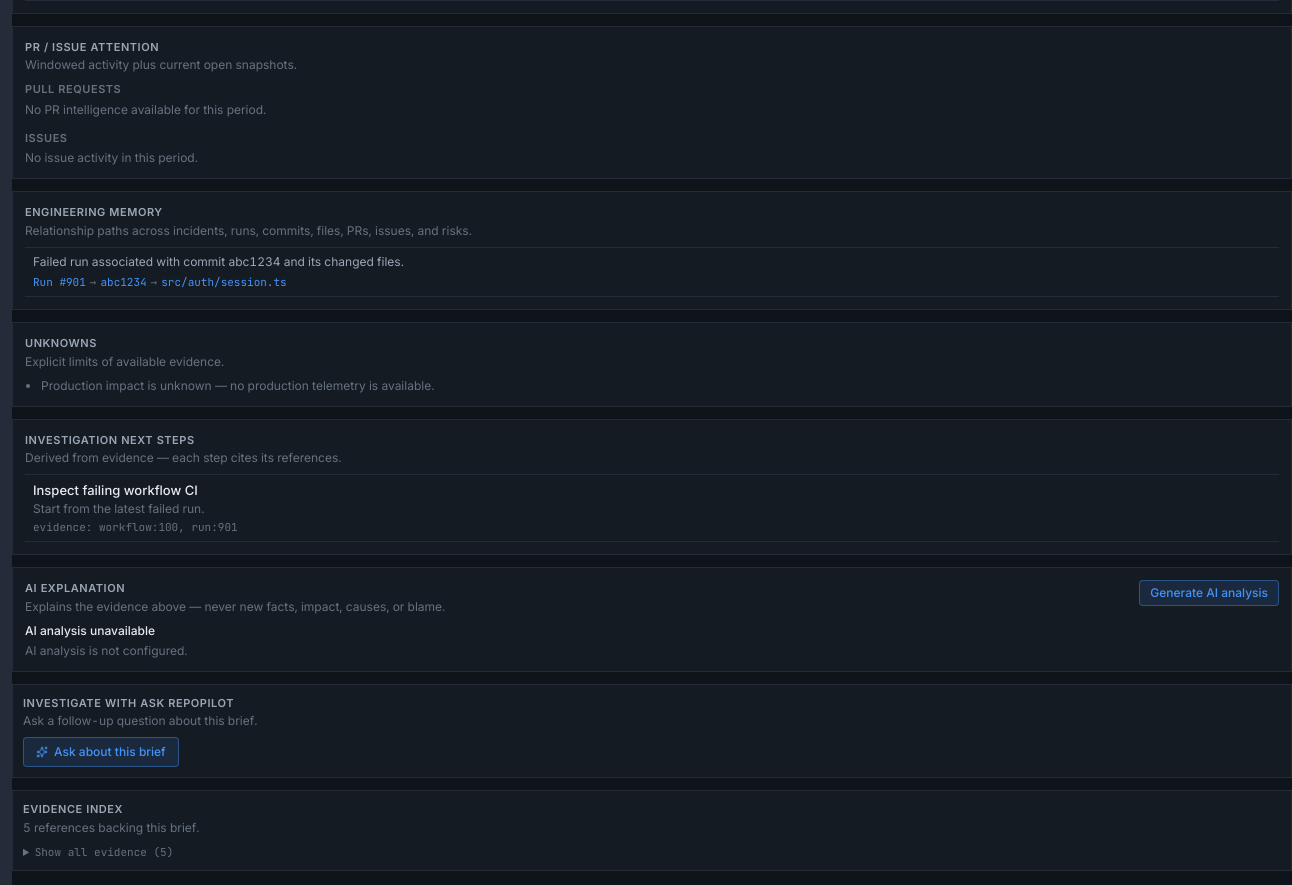
Test: BriefPage engineering brief › generates AI analysis on explicit action with unknowns
(page scrolled)
What coordinates should you click on to do the following:
click the button "Generate AI analysis"
I would click on:
 (1209, 593)
Its box is [1139,580,1279,606].
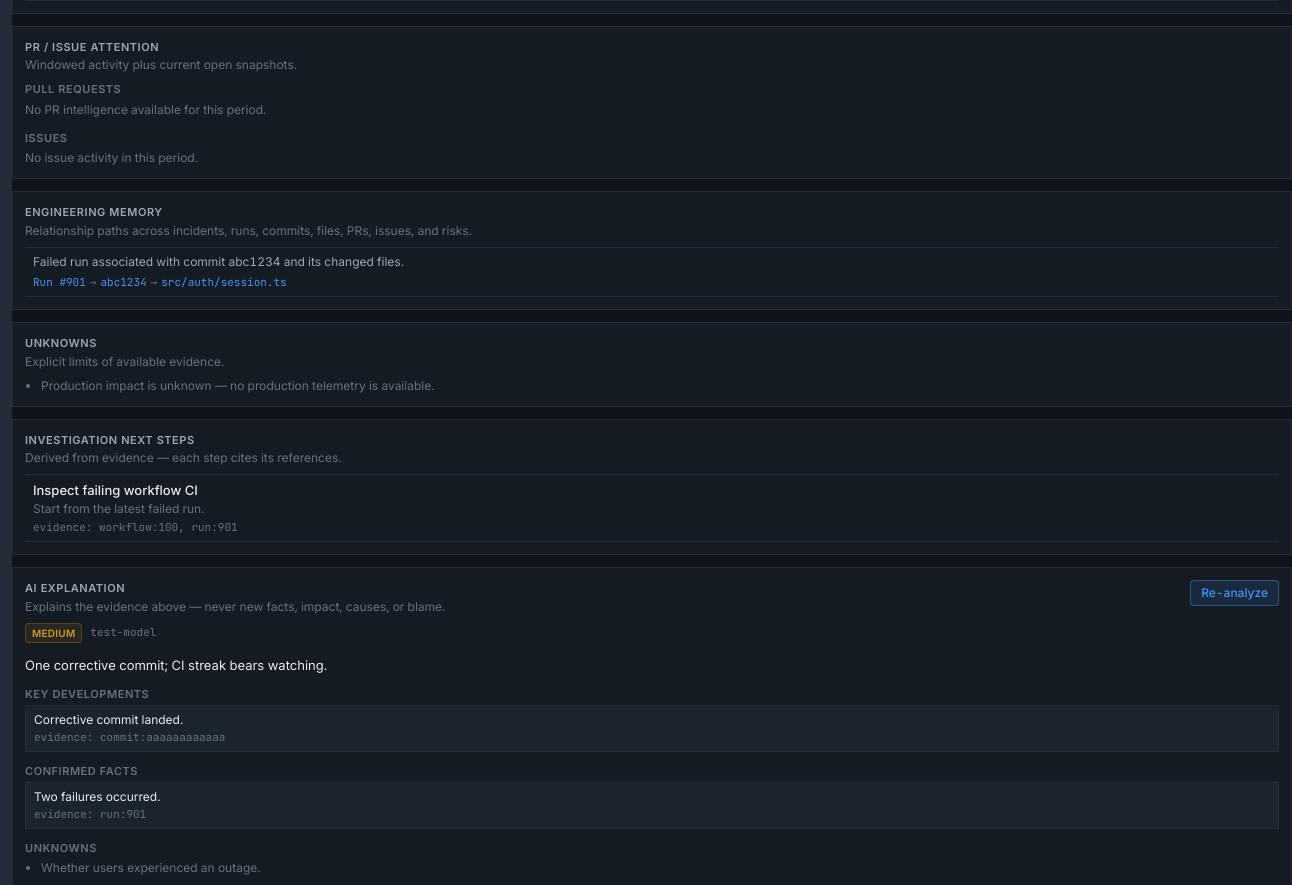
Expected: the text "One corrective commit; CI streak bears watching." is shown, [25,656,327,672]
Expected: the text "Corrective commit landed." is shown, [34,712,183,727]
Expected: the list item "Whether users experienced an outage." is shown, [41,860,260,875]
